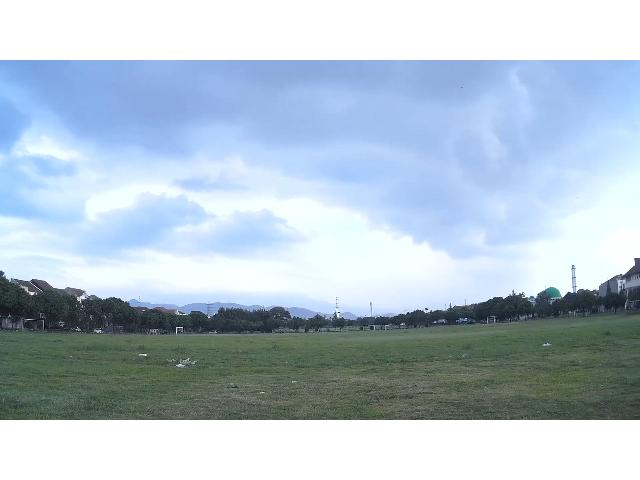Anti-Drone: (331, 304, 347, 322)
